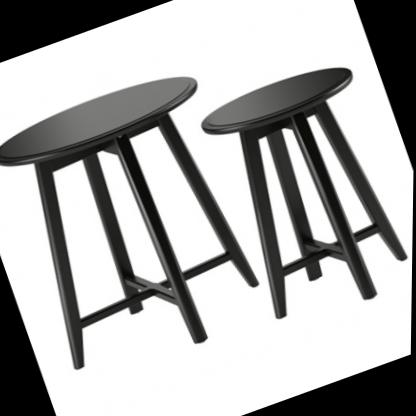Table: (0, 57, 287, 396), (190, 52, 415, 336)
